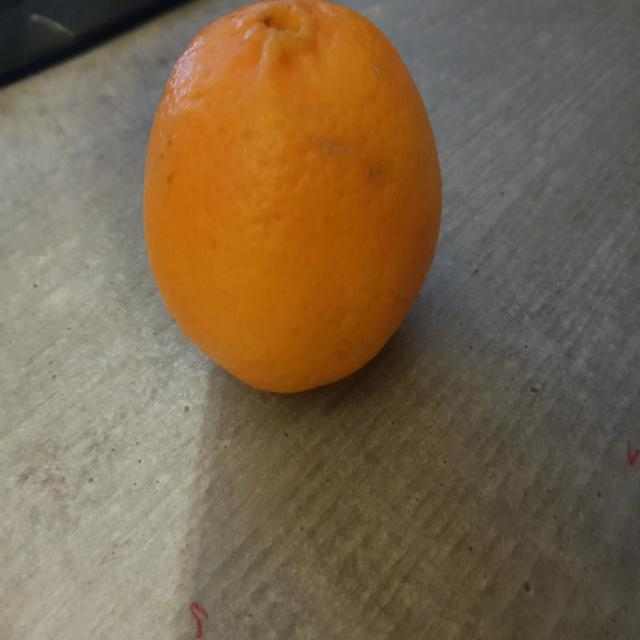Orange: (142, 0, 443, 397)
